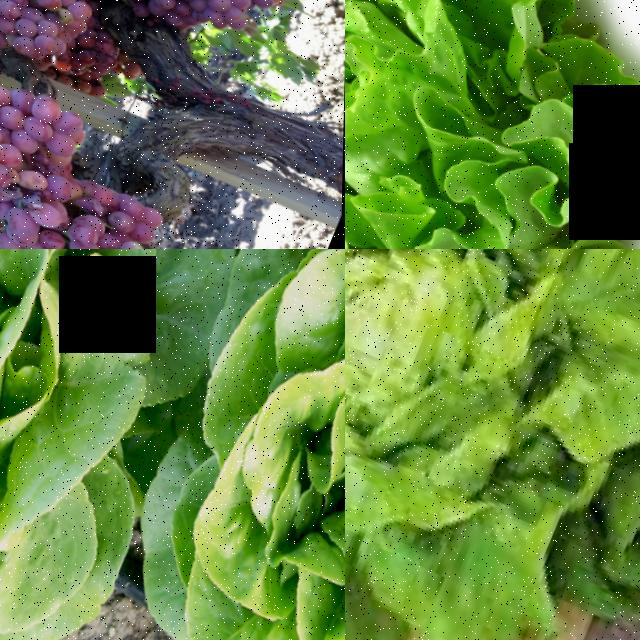grapes: (0, 143, 199, 249), (0, 30, 86, 249), (111, 0, 305, 49), (0, 0, 104, 71)
lettuce: (345, 249, 640, 640), (0, 249, 265, 640), (91, 249, 345, 640), (345, 0, 640, 249)
